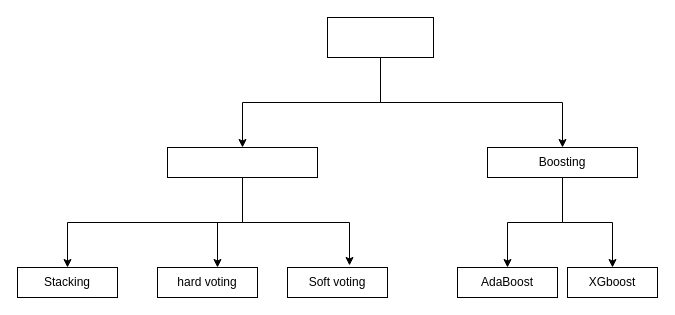
This 675x315 diagram has some shape labels left out. The centre of each missing label's shape, as x and y in pixels:
"Bagging or Pasting" goes at (x=242, y=162).
"Ensemble" goes at (x=380, y=37).
